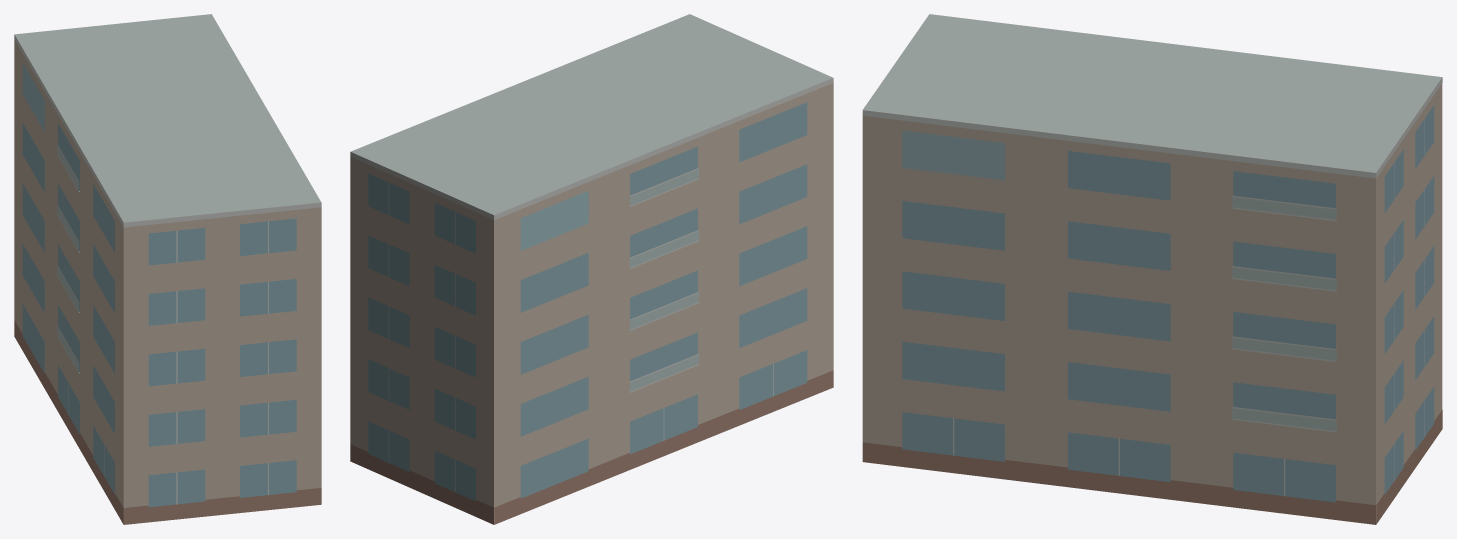
File: survey-upis-32993952.glb
3 views of the same model, side by side, from view 1: azimuth 30°, elevation 25°; view 2: azimuth 150°, elevation 25°; view 3: azimuth 270°, elevation 25° (orthographic). The views are drawn at different scales.
Parts seen in each view (by area): view 1: survey-upis-32993952.tmp; view 2: survey-upis-32993952.tmp; view 3: survey-upis-32993952.tmp.
Boxes of the visible parts, x1=… form: survey-upis-32993952.tmp: x1=14, y1=14, x2=321, y2=524; survey-upis-32993952.tmp: x1=350, y1=14, x2=833, y2=524; survey-upis-32993952.tmp: x1=862, y1=14, x2=1442, y2=524.
Bounding box in the file's own units: 14.78 × 15.25 × 22.79.
